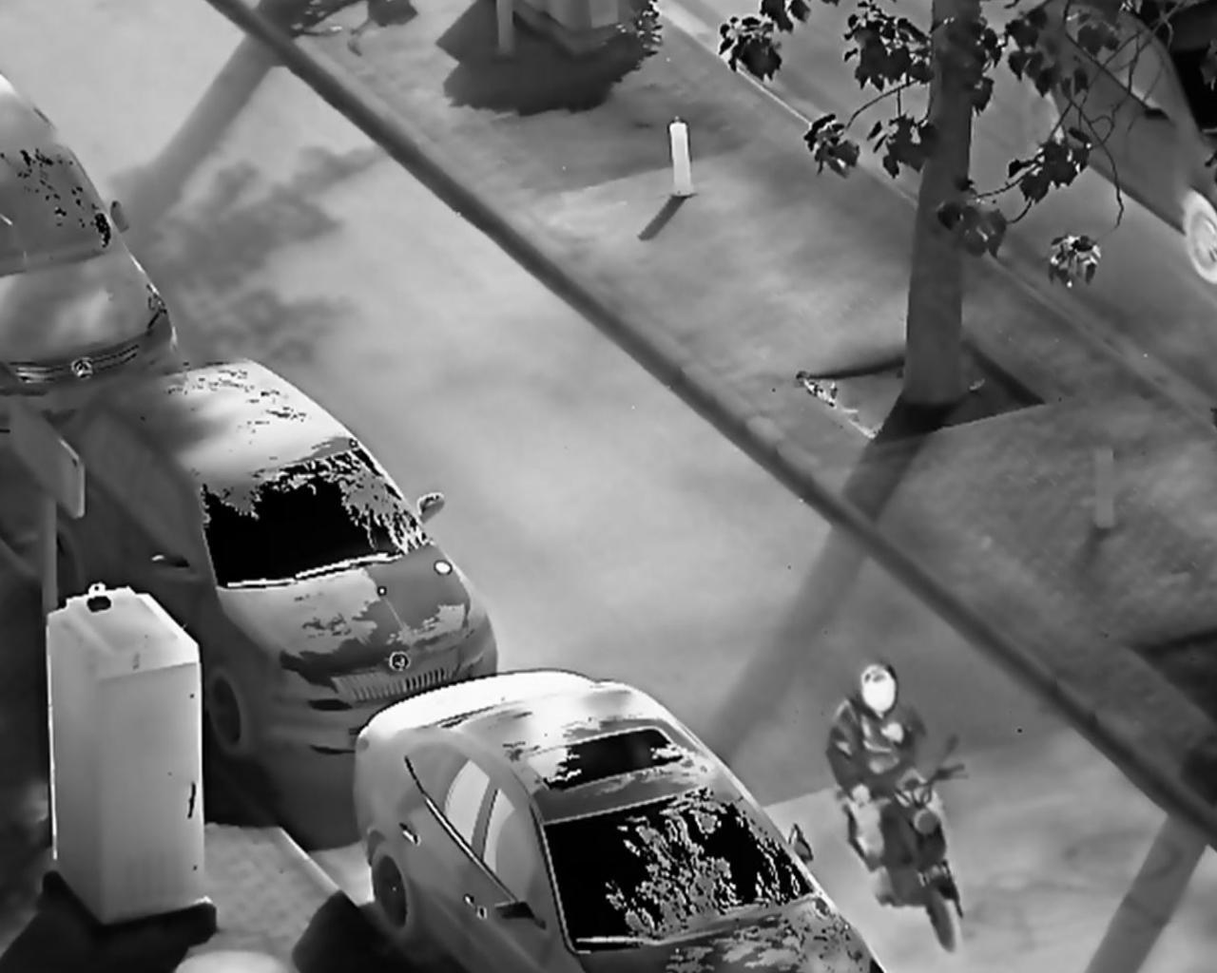person: (825, 661, 952, 891)
